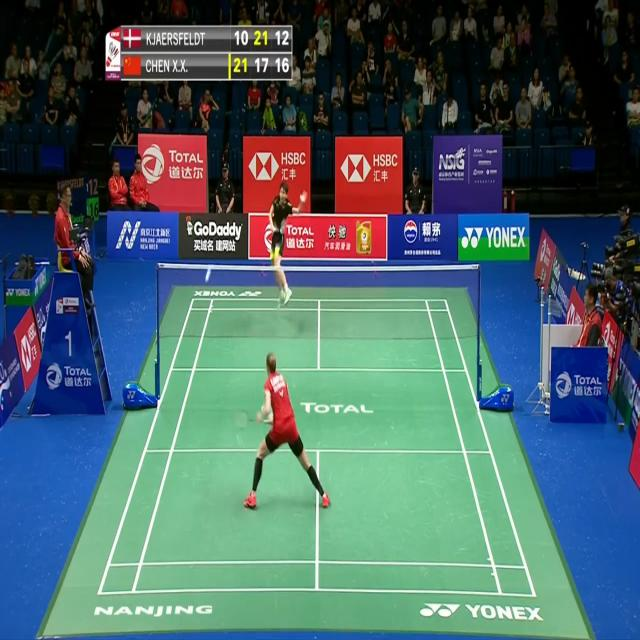Player1: (228, 349, 332, 511)
Player2: (264, 171, 310, 311)
